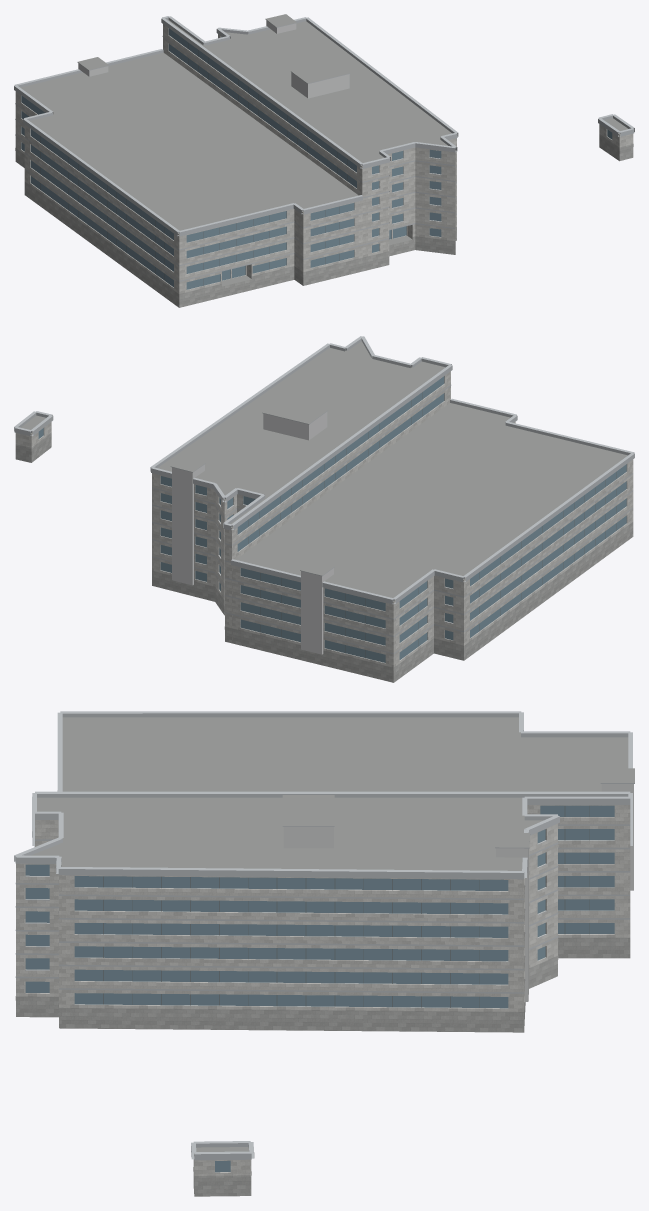
The picture shows the model from 3 angles, top to bottom: view 1: azimuth 30°, elevation 25°; view 2: azimuth 150°, elevation 25°; view 3: azimuth 270°, elevation 25°; orthographic projection. The views are drawn at different scales.
Visible parts, largest first — view 1: nanoFabE19__roof, nanoFabE19__wall, nanoFabE19__glass, nanoFabE19__trim, nanoFabE19__base, nanoFabE19__wall2, nanoFabE19__frame; view 2: nanoFabE19__roof, nanoFabE19__wall, nanoFabE19__glass, nanoFabE19__trim, nanoFabE19__base, nanoFabE19__wall2, nanoFabE19__frame; view 3: nanoFabE19__roof, nanoFabE19__wall, nanoFabE19__glass, nanoFabE19__trim, nanoFabE19__base, nanoFabE19__wall2, nanoFabE19__frame.
Boxes of the visible parts, x1,y1,x2,y2 form: nanoFabE19__roof: (20, 14, 627, 286); nanoFabE19__wall: (15, 24, 633, 296); nanoFabE19__glass: (21, 28, 612, 289); nanoFabE19__trim: (14, 16, 634, 281); nanoFabE19__base: (15, 134, 633, 307); nanoFabE19__wall2: (78, 20, 349, 98); nanoFabE19__frame: (40, 43, 347, 285); nanoFabE19__roof: (21, 341, 627, 601); nanoFabE19__wall: (15, 371, 633, 670); nanoFabE19__glass: (38, 376, 626, 662); nanoFabE19__trim: (14, 336, 634, 654); nanoFabE19__base: (15, 432, 633, 682); nanoFabE19__wall2: (172, 412, 333, 654); nanoFabE19__frame: (248, 392, 616, 657); nanoFabE19__roof: (31, 717, 634, 1153); nanoFabE19__wall: (16, 805, 630, 1177); nanoFabE19__glass: (25, 805, 614, 1172); nanoFabE19__trim: (14, 711, 634, 1160); nanoFabE19__base: (15, 937, 630, 1196); nanoFabE19__wall2: (283, 784, 633, 1001); nanoFabE19__frame: (103, 806, 589, 1007).
Size of the model in its own units: 121 by 28.59 by 86.5.
Materials: 8 (2 with a texture image).
